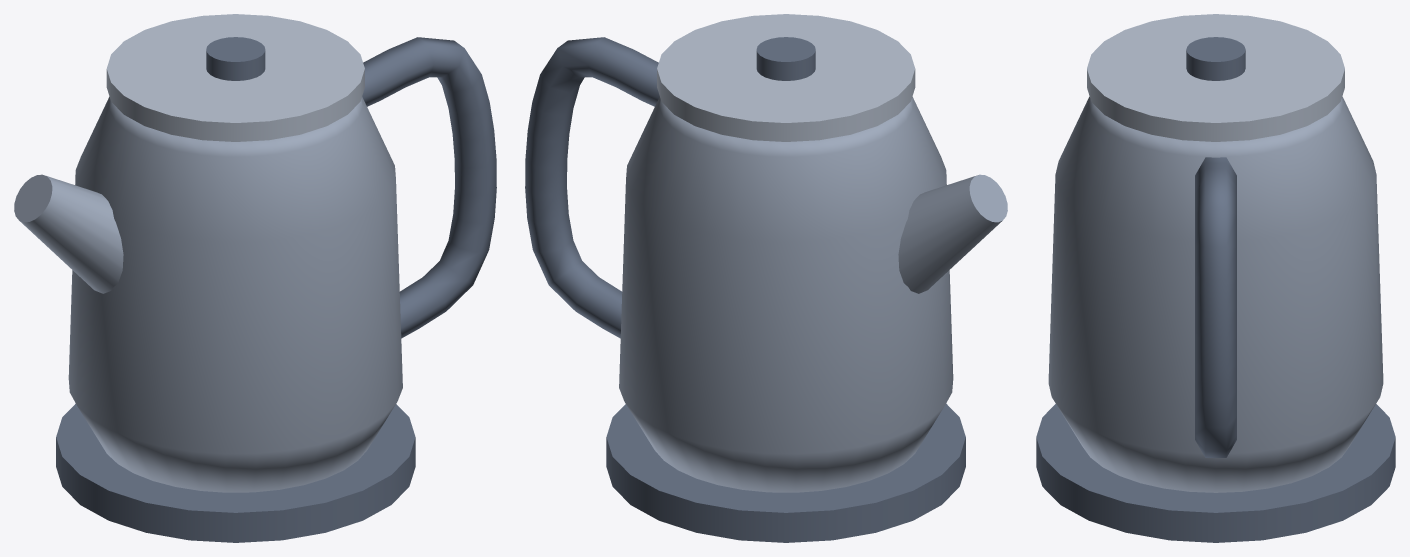
File: 电热水壶-lite.glb
3 renders of one model, left to right at view 1: azimuth 30°, elevation 25°; view 2: azimuth 150°, elevation 25°; view 3: azimuth 270°, elevation 25°, orthographic.
Visible parts, largest first — view 1: body, dark, soft; view 2: body, dark, soft; view 3: body, dark, soft.
Boxes of the visible parts, x1,y1,x2,y2 form: body: (14,96,402,492); dark: (56,37,496,542); soft: (106,14,364,141); body: (619,96,1007,492); dark: (525,37,965,542); soft: (657,14,915,141); body: (1048,96,1383,492); dark: (1036,37,1395,542); soft: (1087,14,1344,141).
Bounding box in the file's own units: 0.3127 × 0.264 × 0.206.
